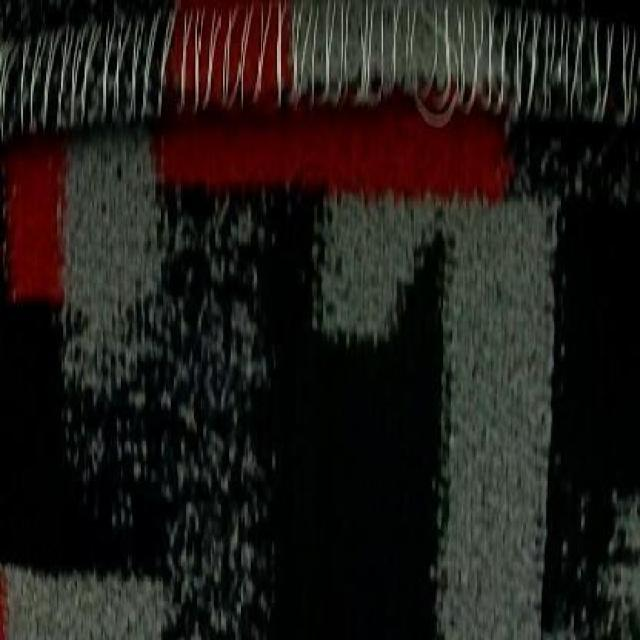gray stitch: (6, 1, 640, 141)
